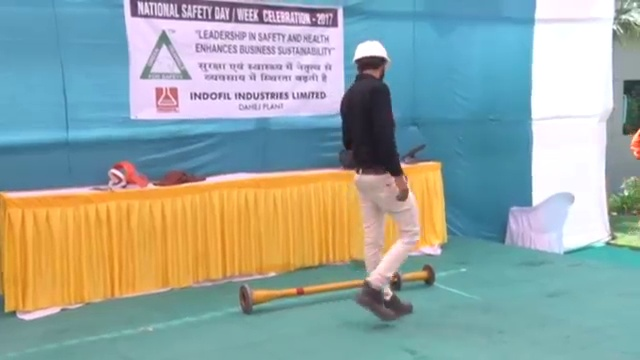helmet: (350, 39, 392, 64)
helmet_on: (349, 39, 391, 81)
person: (341, 38, 417, 319)
